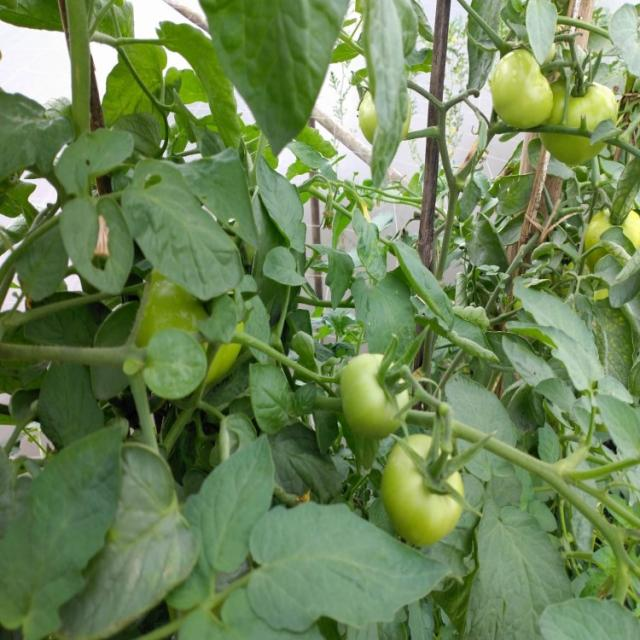tomato: (143, 278, 248, 385), (383, 434, 474, 549), (335, 352, 418, 426), (554, 71, 618, 165), (490, 50, 550, 133), (579, 206, 640, 271), (358, 85, 409, 146)
